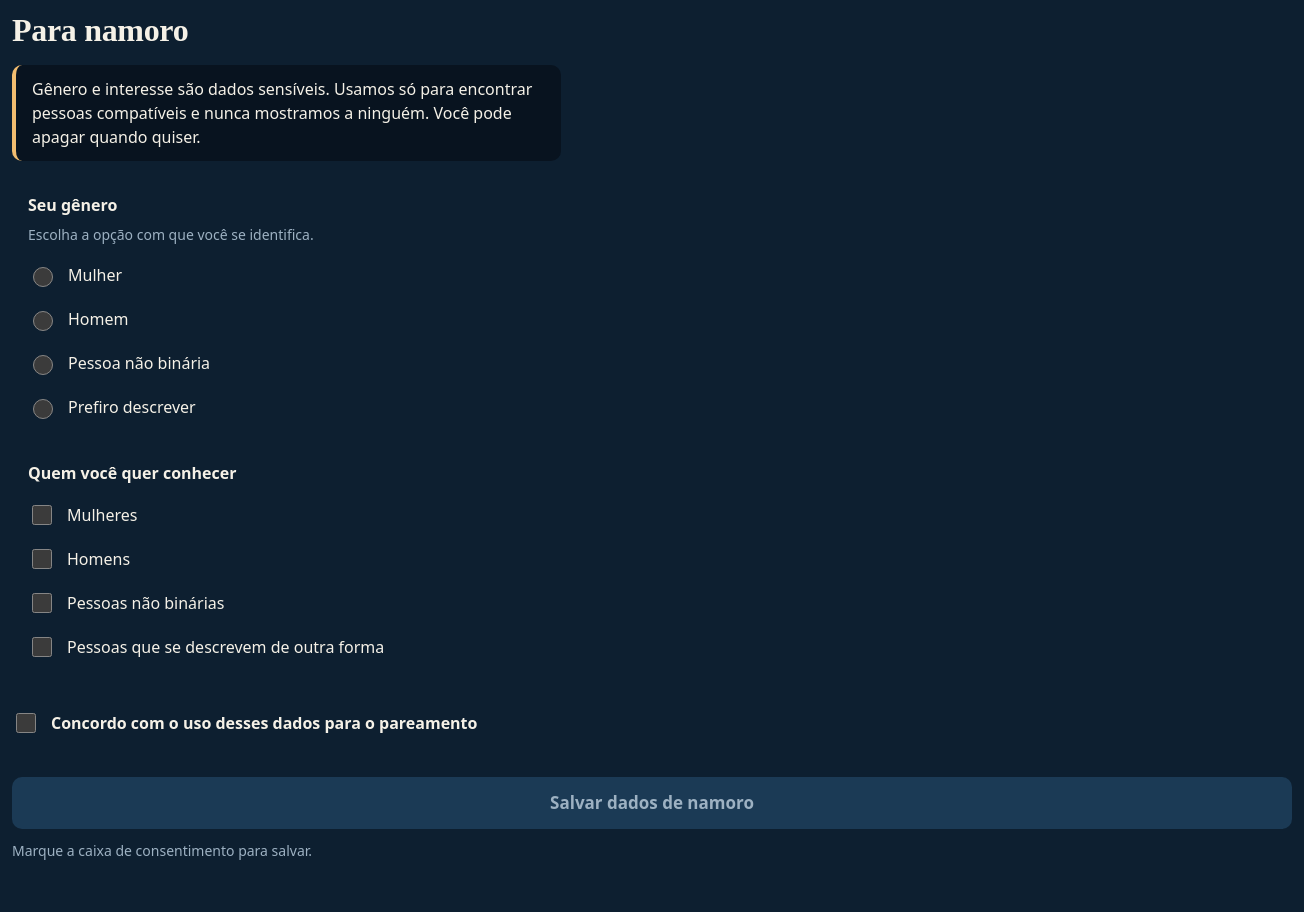
Test: Namoro › salvarNamoroExigeConsentimento
The image size is (1304, 912).
Click the radio button labelled "Mulher": click(43, 277) [33,267,53,287]
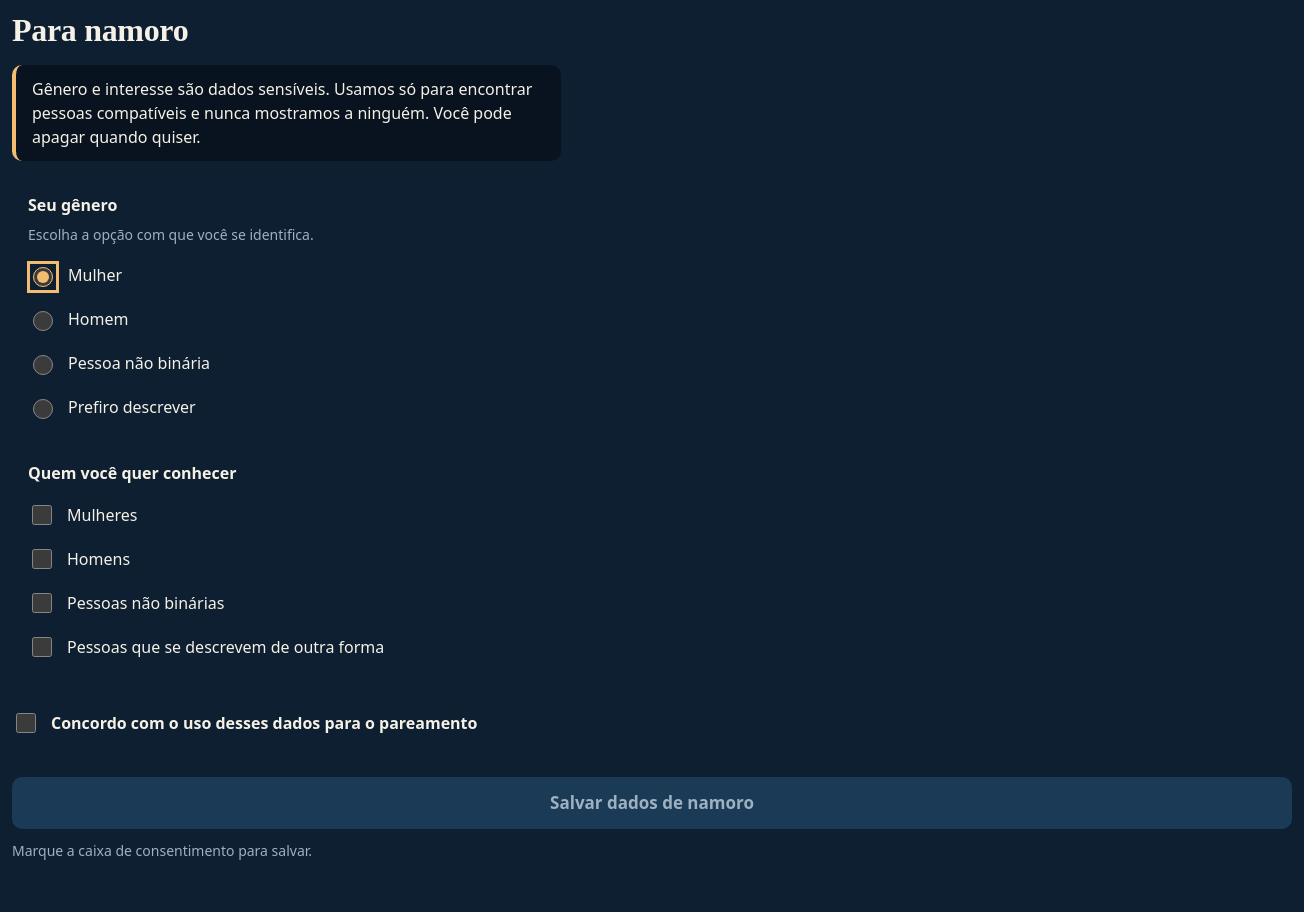
Click the checkbox labelled "Homens": click(42, 559) [32,549,52,569]
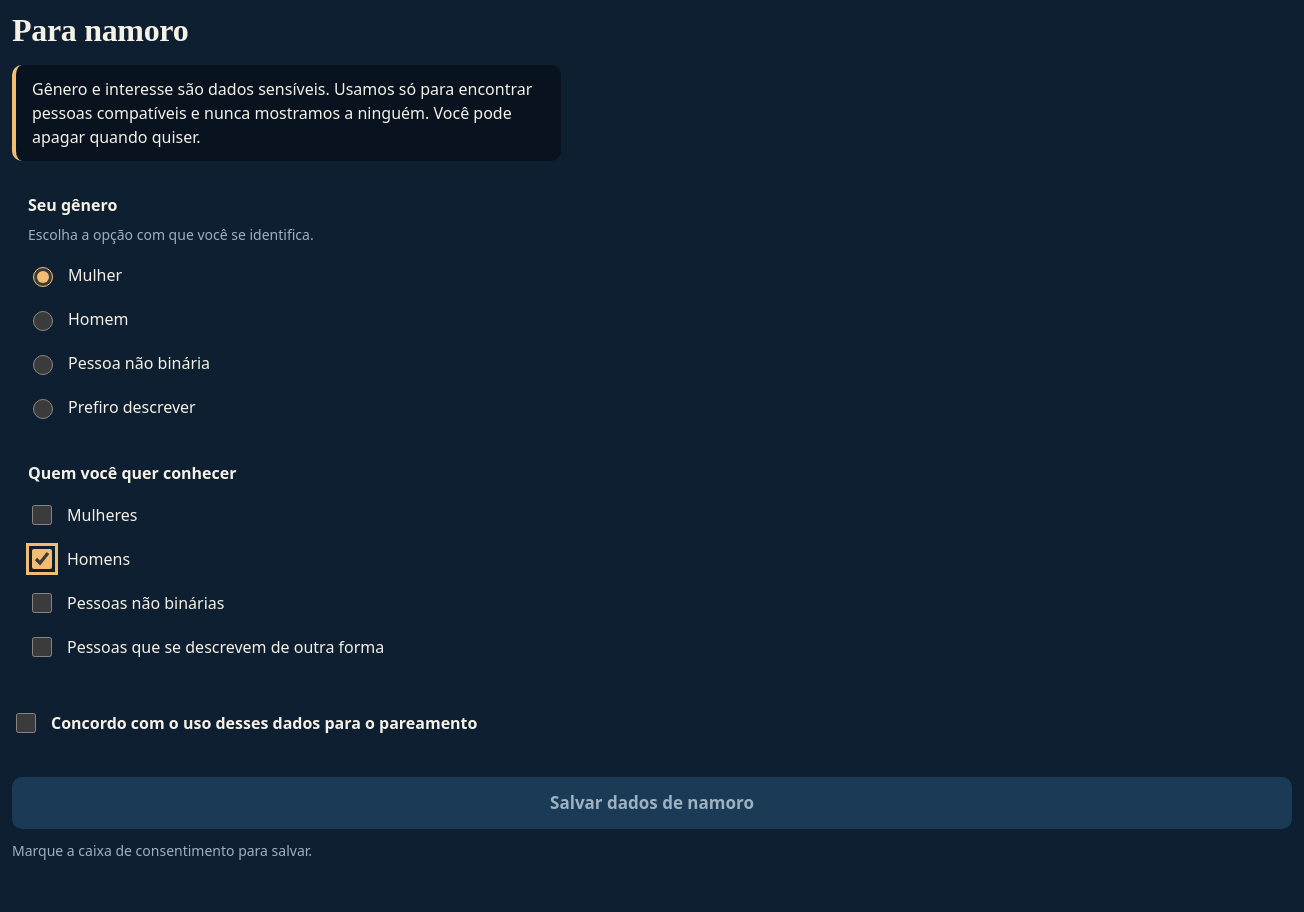
Click the button "Salvar dados de namoro": click(652, 803) [12,777,1292,829]
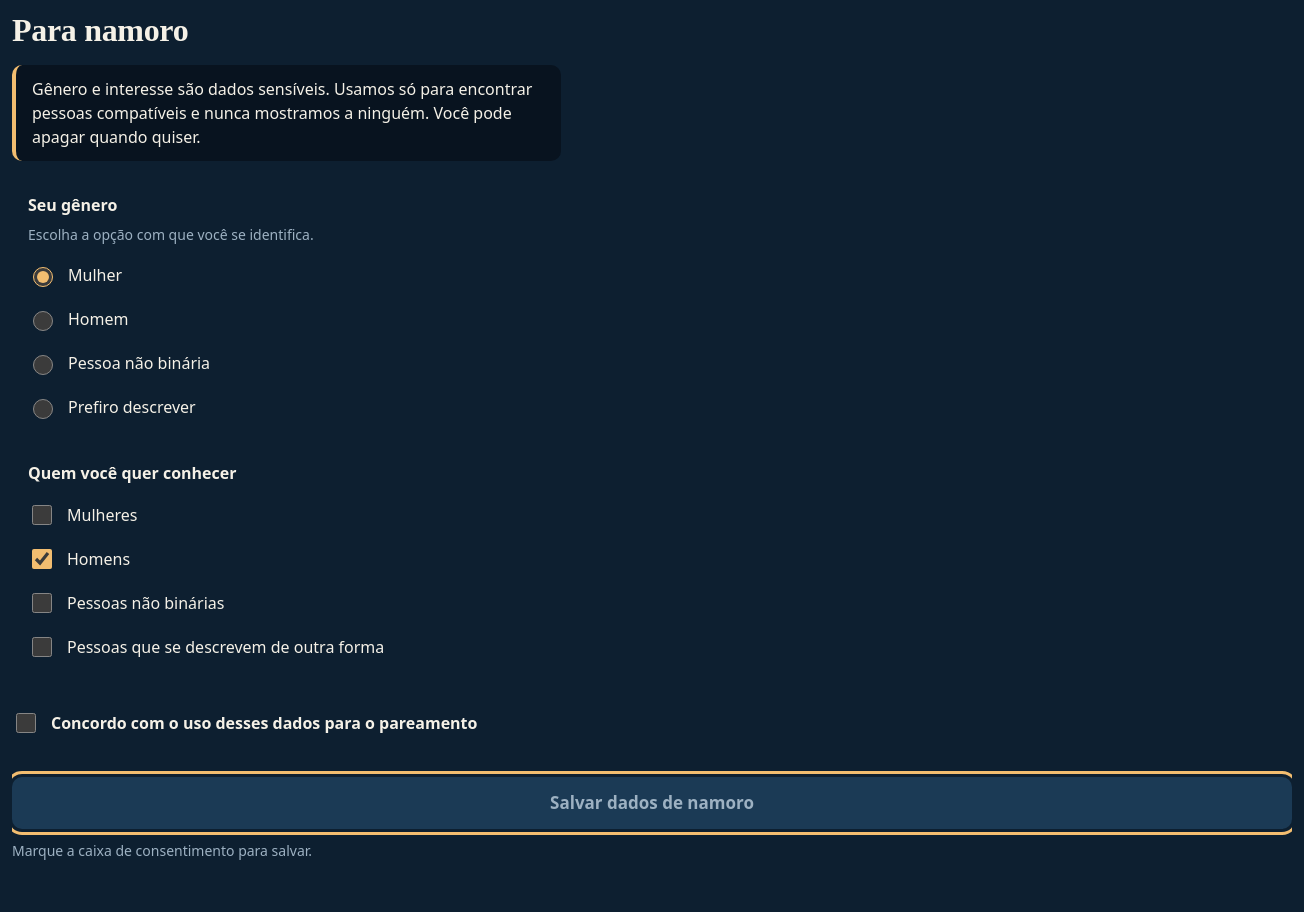
Click the checkbox labelled "Concordo com o uso desses dados para o pareamento": click(26, 723) [16,713,36,733]
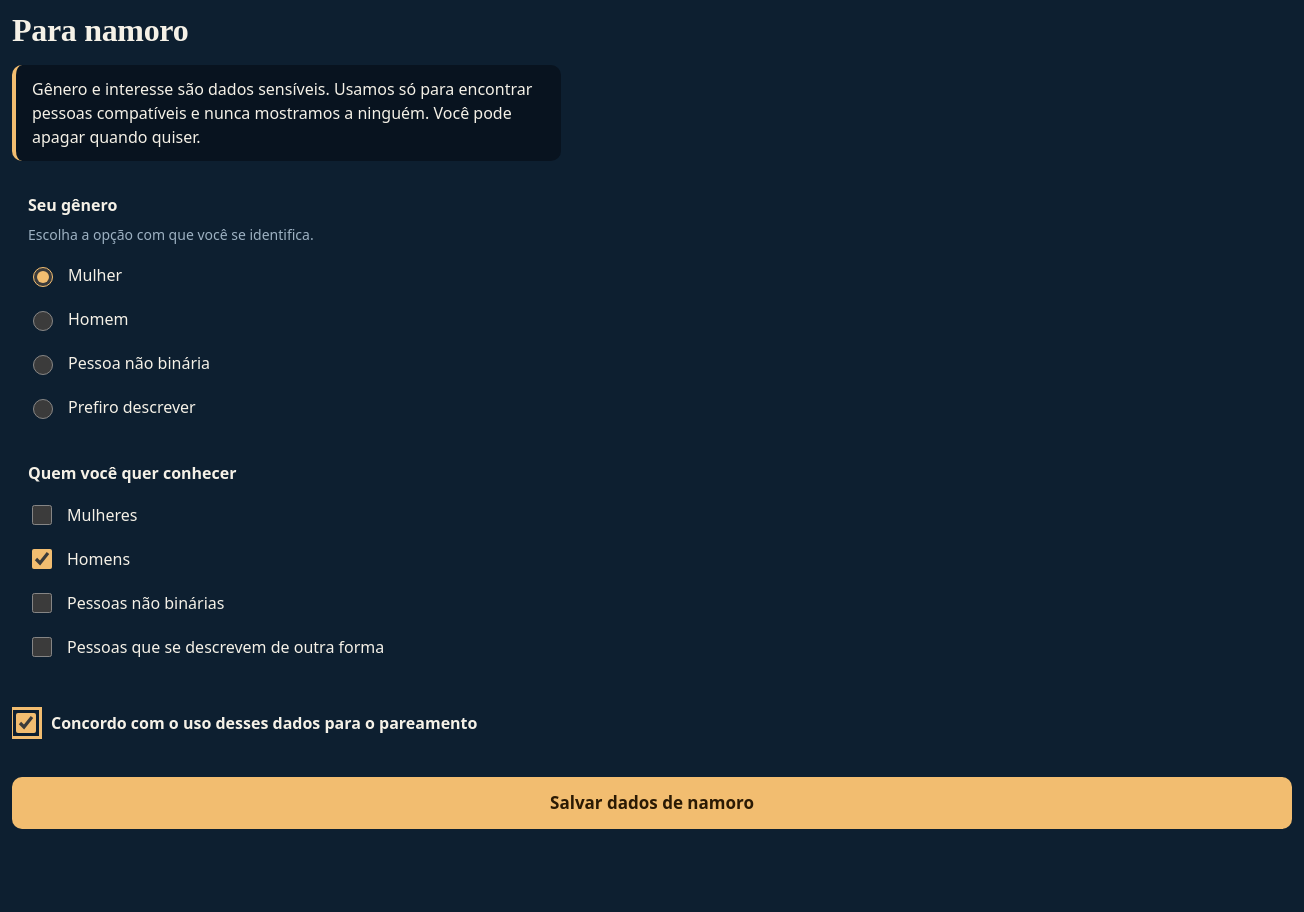
Expected: the text "Marque a caixa de consentimento para salvar." is gone
